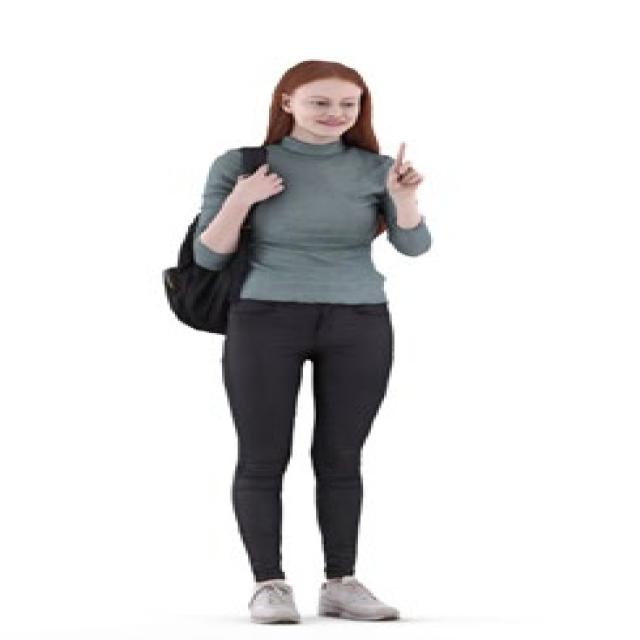standing: (192, 58, 434, 626)
